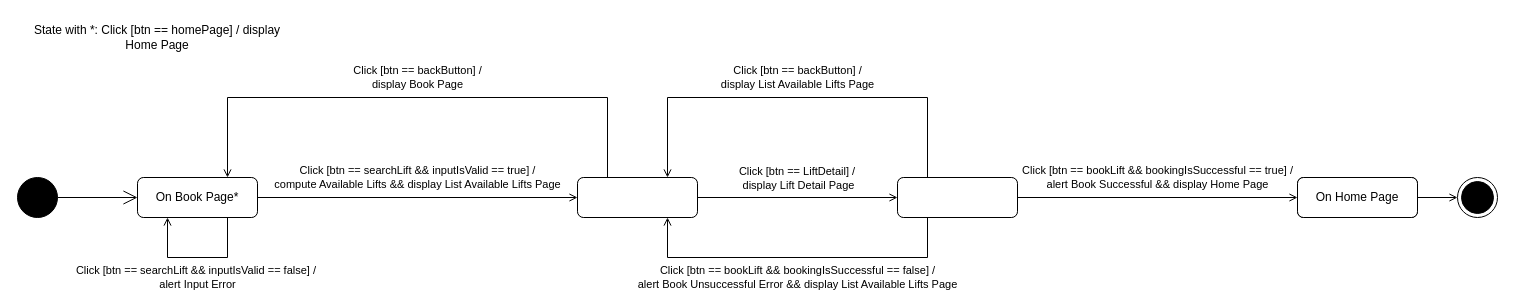
The diagram is 1515 pixels wide and 307 high, and some of its shapes have lost their labels. The centre of each missing label's shape, as x and y in pixels:
"On Lift Detail Page*" goes at pixel 957 197.
"On List Available Lifts Page*" goes at pixel 637 197.
